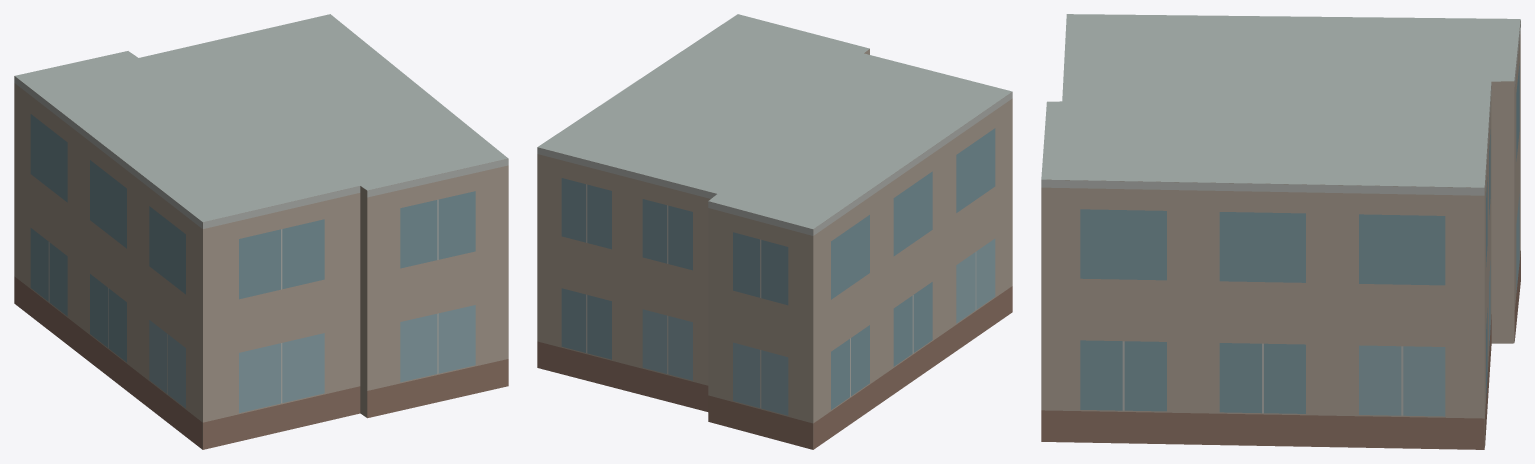
The model's file is survey-upis-32850023.glb.
3 renders of one model, left to right at view 1: azimuth 30°, elevation 25°; view 2: azimuth 150°, elevation 25°; view 3: azimuth 270°, elevation 25°, orthographic. The views are drawn at different scales.
Parts seen in each view (by area): view 1: survey-upis-32850023.tmp; view 2: survey-upis-32850023.tmp; view 3: survey-upis-32850023.tmp.
Boxes of the visible parts, x1,y1,x2,y2 form: survey-upis-32850023.tmp: (14,14,508,449); survey-upis-32850023.tmp: (537,14,1012,449); survey-upis-32850023.tmp: (1041,14,1520,449).
Bounding box in the file's own units: 11.31 × 7.95 × 13.19.
